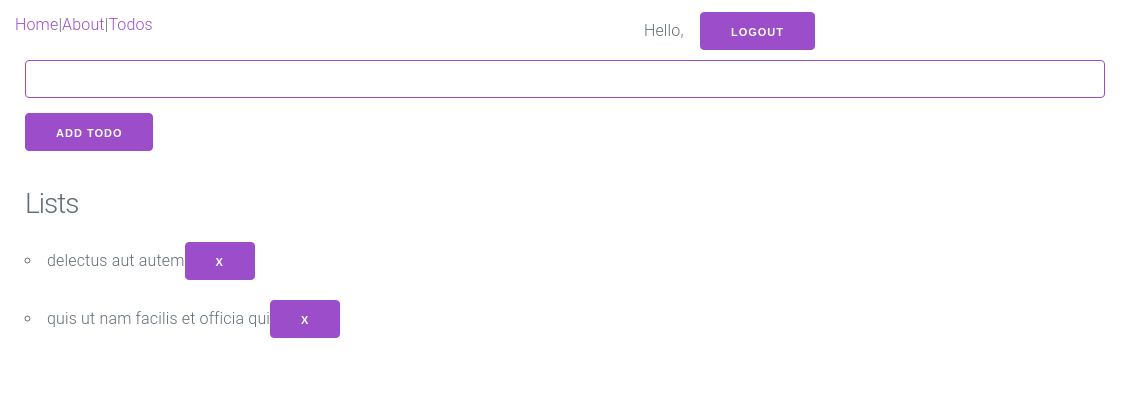
Todo › adds a new todo
Type "Learn about cypress" into the field at [565, 79], box [25,60,1105,98]
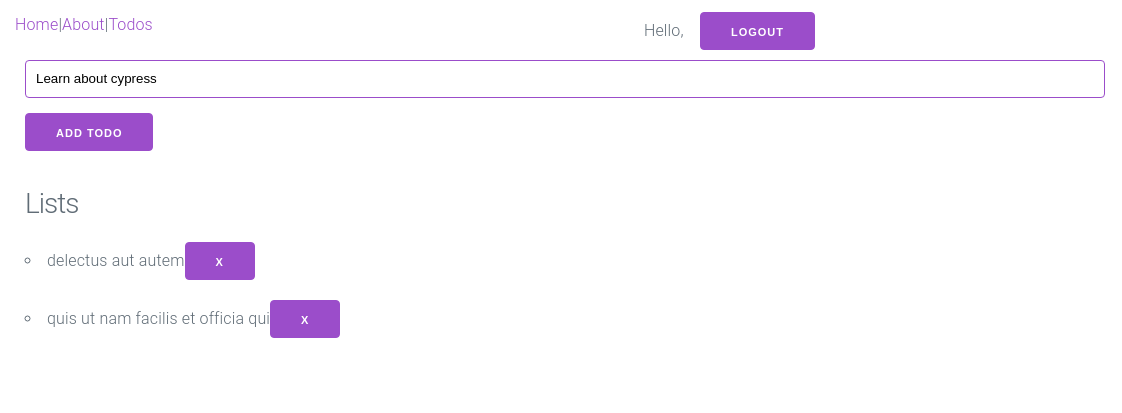
Press Enter in the field, box [25,60,1105,98]
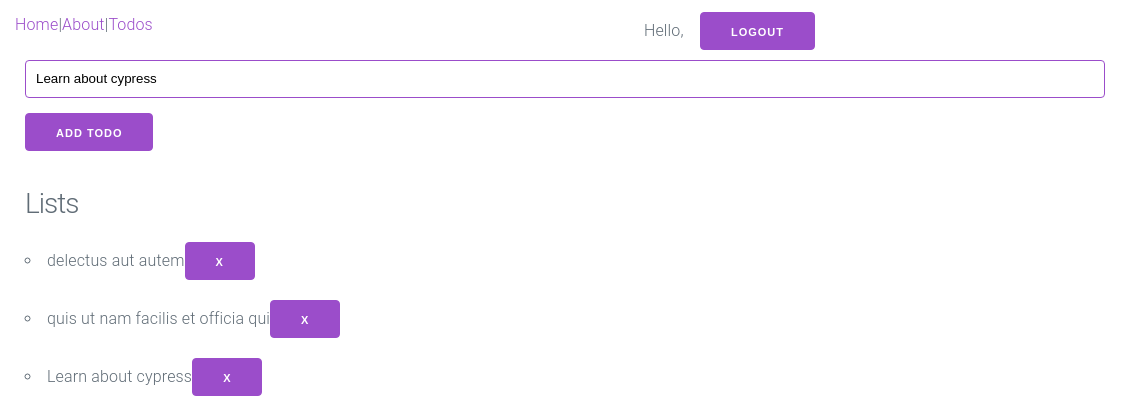
Result: the number of list items is 3 at [47,242,255,280]; [47,300,340,338]; [47,358,262,396]
